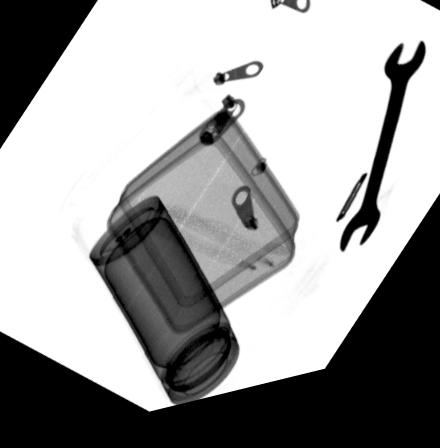Wrench: (339, 58, 429, 270)
